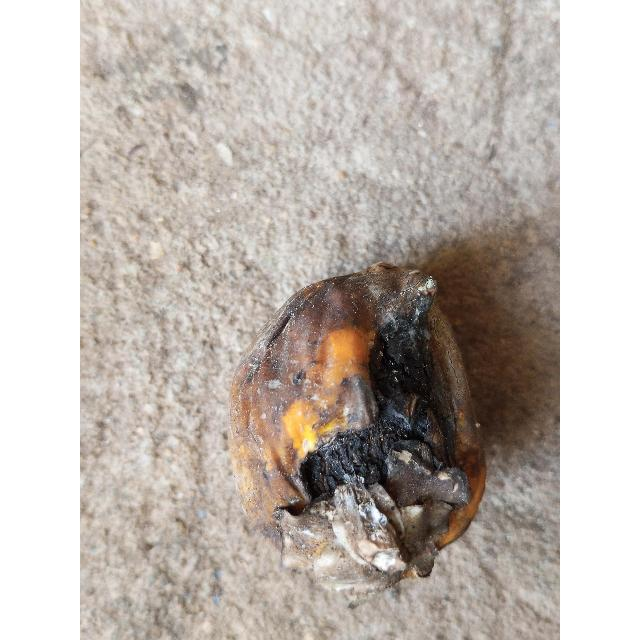damaged: (229, 263, 487, 579)
